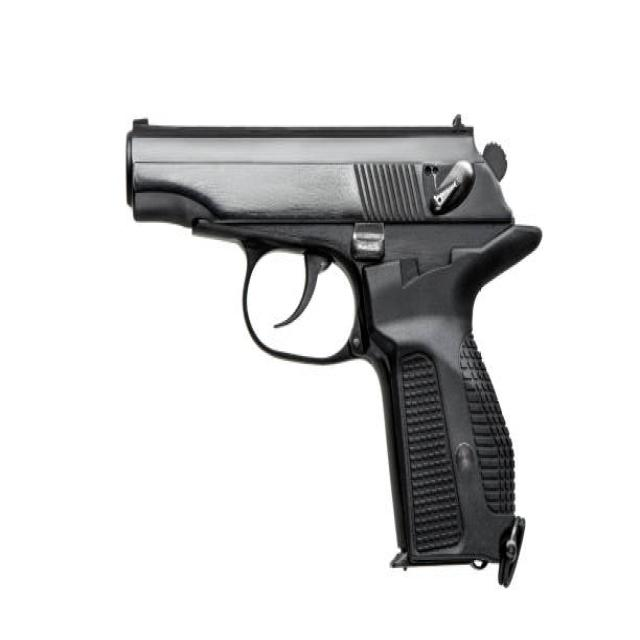pistol: (115, 105, 548, 590)
